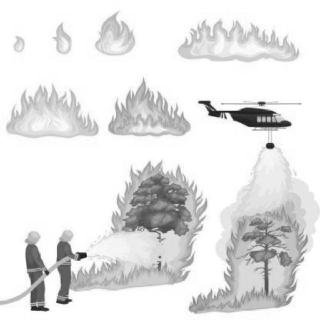Fire: (91, 8, 138, 58)
